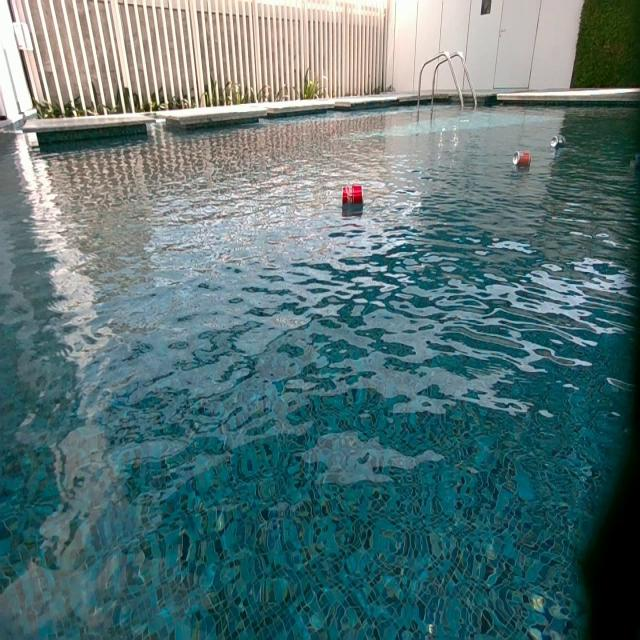Cans: (342, 184, 364, 204), (514, 152, 532, 171), (550, 136, 567, 148)
